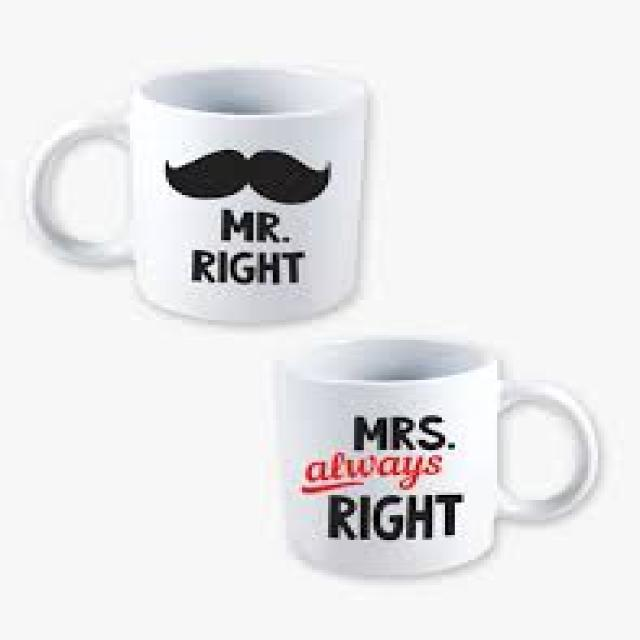taza: (21, 56, 392, 329), (252, 330, 618, 585)
